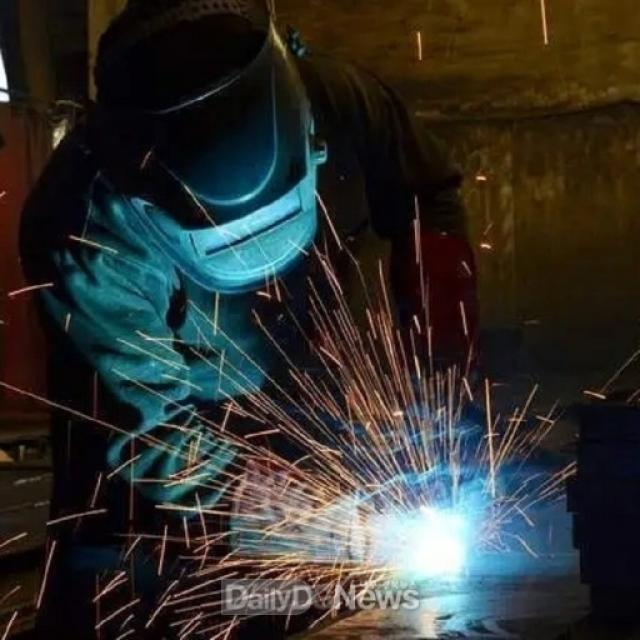welding: (403, 506, 472, 580)
